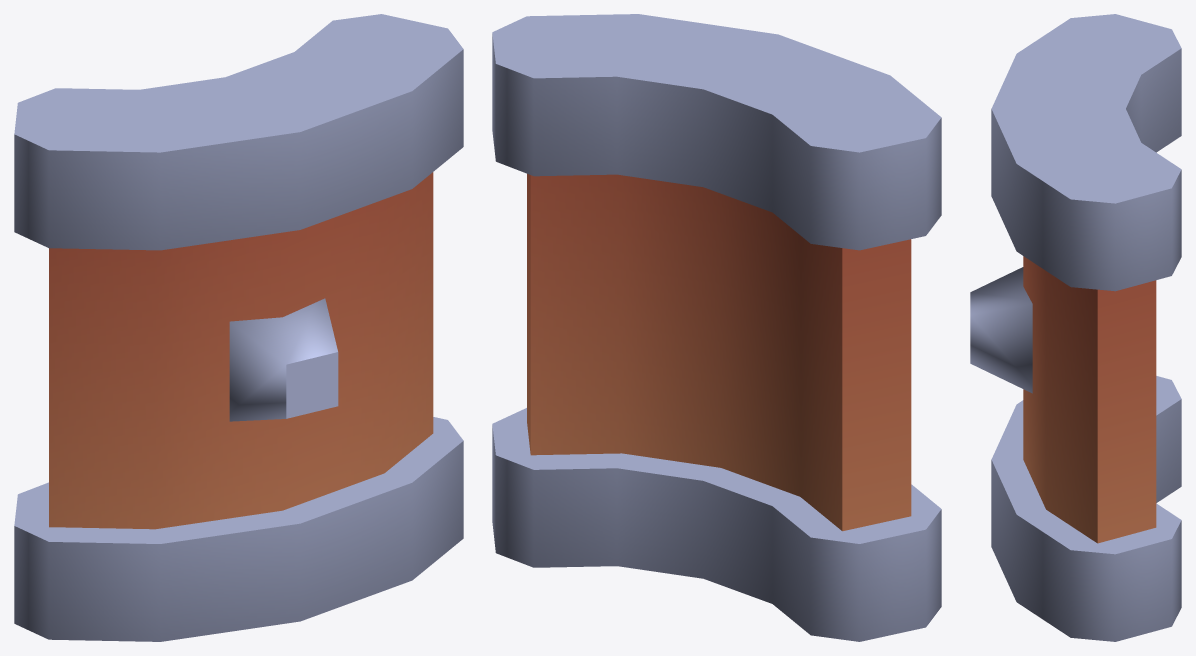
File: shield-rectangle.obj
3 renders of one model, left to right at view 1: azimuth 30°, elevation 25°; view 2: azimuth 150°, elevation 25°; view 3: azimuth 270°, elevation 25°, orthographic. The views are drawn at different scales.
Visible parts, largest first — view 1: shield-rectangle; view 2: shield-rectangle; view 3: shield-rectangle.
Part boxes in pixels (bbox=[...]): shield-rectangle: bbox=[14, 14, 463, 641]; shield-rectangle: bbox=[492, 14, 941, 641]; shield-rectangle: bbox=[970, 14, 1181, 641].
Size of the model in its own units: 0.2759 by 0.2975 by 0.13.
1 material, 1 textured.
